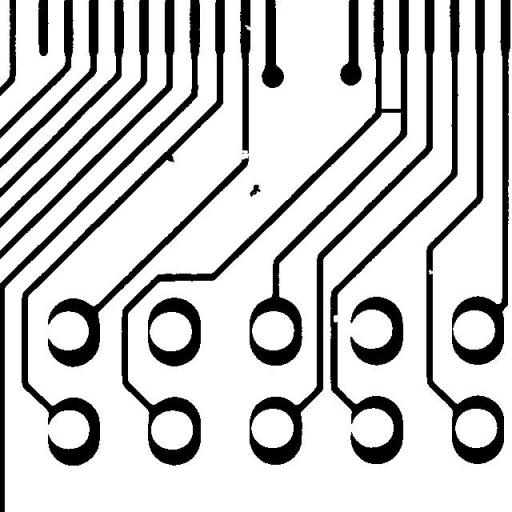copper: (242, 177, 268, 204)
mousebite: (237, 16, 258, 38), (326, 307, 346, 330), (421, 262, 441, 282)
open: (231, 142, 258, 168)
short: (370, 101, 413, 121)
spur: (159, 147, 182, 170)
